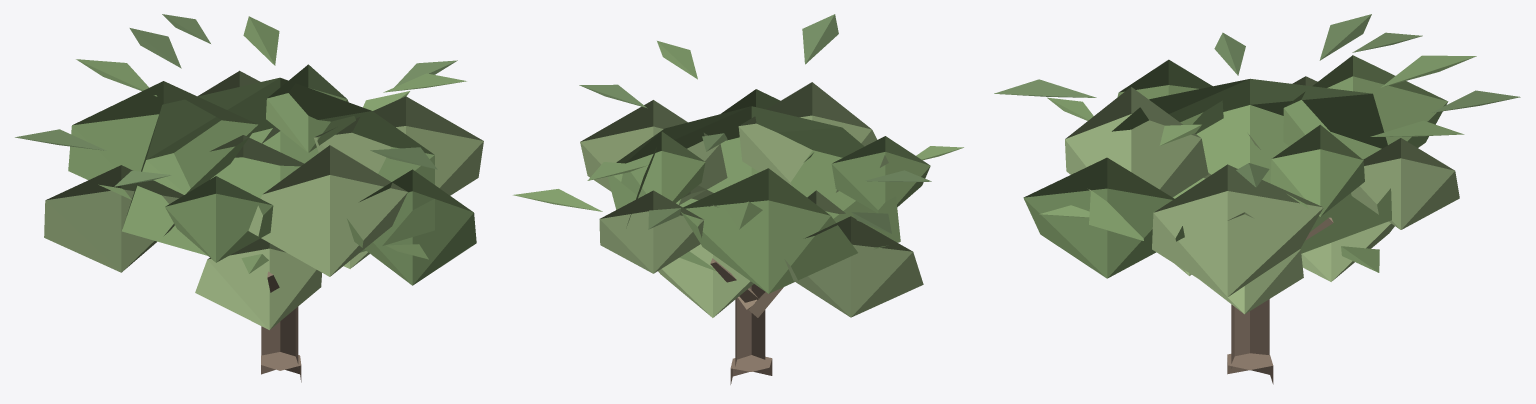
File: nong.sang@subadult__summer.glb
The picture shows the model from 3 angles, left to right: view 1: azimuth 30°, elevation 25°; view 2: azimuth 150°, elevation 25°; view 3: azimuth 270°, elevation 25°; orthographic projection. The views are drawn at different scales.
Visible parts, largest first — view 1: nong.sang@subadult__summer; view 2: nong.sang@subadult__summer; view 3: nong.sang@subadult__summer.
Part boxes in pixels (bbox=[...]): nong.sang@subadult__summer: bbox=[15, 14, 483, 382]; nong.sang@subadult__summer: bbox=[513, 14, 963, 384]; nong.sang@subadult__summer: bbox=[994, 14, 1520, 384].
Size of the model in its own units: 4.67 by 3.48 by 5.1.
